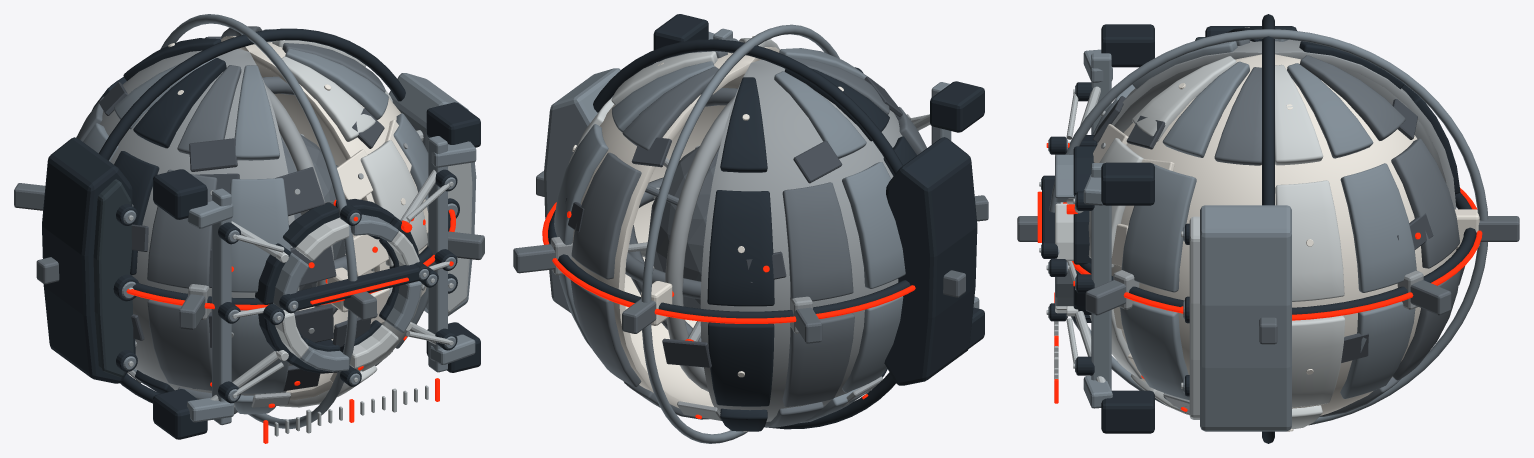
The model's file is orbit-test-ultra.glb.
3 views of the same model, side by side, from view 1: azimuth 30°, elevation 25°; view 2: azimuth 150°, elevation 25°; view 3: azimuth 270°, elevation 25° (orthographic). The views are drawn at different scales.
Parts seen in each view (by area): view 1: Test_MetrologyYoke_WEST, Test_OuterShell_B, Test_MetrologyYokeFace_00, Test_MeasurementRing_1, Test_MeasurementRing_2, Test_InspectionShell_B_ArmourTile_01_05, Test_OuterShell_A, Test_InspectionShell_B_ArmourTile_01_04, Test_InspectionShell_B_ArmourTile_02_04, Test_MetrologyRail_0, Test_InspectionShell_A_ArmourTile_01_00, Test_InspectionShell_B_ArmourTile_00_05 (+63 smaller); view 2: Test_MetrologyYoke_WEST, Test_OuterShell_B, Test_OuterShell_A, Test_InspectionShell_B_ArmourTile_01_00, Test_InspectionShell_B_ArmourTile_01_01, Test_MeasurementRing_1, Test_MeasurementRing_2, Test_InspectionShell_B_ArmourTile_02_00, Test_InspectionShell_A_ArmourTile_01_05, Test_InspectionShell_B_ArmourTile_01_02, Test_InspectionShell_B_ArmourTile_02_01, Test_MetrologyYoke_EAST (+34 smaller); view 3: Test_MetrologyYoke_EAST, Test_OuterShell_A, Test_MeasurementRing_2, Test_InspectionShell_A_ArmourTile_01_04, Test_InspectionShell_A_ArmourTile_01_01, Test_InspectionShell_A_ArmourTile_01_03, Test_OuterShell_B, Test_InspectionShell_A_ArmourTile_01_05, Test_InspectionShell_A_ArmourTile_02_01, Test_InspectionShell_A_ArmourTile_02_03, Test_InspectionShell_A_ArmourTile_02_04, Test_InspectionShell_A_ArmourTile_00_01 (+41 smaller).
Part boxes in pixels (<box>): Test_MetrologyYoke_WEST: <box>42,137,135,383</box>; Test_OuterShell_B: <box>100,48,299,407</box>; Test_MetrologyYokeFace_00: <box>93,179,133,377</box>; Test_MeasurementRing_1: <box>99,28,405,403</box>; Test_MeasurementRing_2: <box>160,14,357,428</box>; Test_InspectionShell_B_ArmourTile_01_05: <box>230,178,290,292</box>; Test_OuterShell_A: <box>221,36,426,400</box>; Test_InspectionShell_B_ArmourTile_01_04: <box>147,169,217,288</box>; Test_InspectionShell_B_ArmourTile_02_04: <box>147,299,211,390</box>; Test_MetrologyRail_0: <box>212,188,231,425</box>; Test_InspectionShell_A_ArmourTile_01_00: <box>360,140,427,266</box>; Test_InspectionShell_B_ArmourTile_00_05: <box>234,65,279,160</box>; Test_MetrologyYoke_WEST: <box>884,137,977,385</box>; Test_OuterShell_B: <box>700,59,902,421</box>; Test_OuterShell_A: <box>571,47,779,408</box>; Test_InspectionShell_B_ArmourTile_01_00: <box>707,190,774,306</box>; Test_InspectionShell_B_ArmourTile_01_01: <box>782,182,853,301</box>; Test_MeasurementRing_1: <box>593,39,902,429</box>; Test_MeasurementRing_2: <box>641,24,839,443</box>; Test_InspectionShell_B_ArmourTile_02_00: <box>708,322,774,406</box>; Test_InspectionShell_A_ArmourTile_01_05: <box>571,152,641,279</box>; Test_InspectionShell_B_ArmourTile_01_02: <box>842,162,905,288</box>; Test_InspectionShell_B_ArmourTile_02_01: <box>782,313,854,407</box>; Test_MetrologyYoke_EAST: <box>544,68,620,312</box>; Test_MetrologyYoke_EAST: <box>1200,205,1291,431</box>; Test_OuterShell_A: <box>1111,54,1456,415</box>; Test_MeasurementRing_2: <box>1049,29,1488,425</box>; Test_InspectionShell_A_ArmourTile_01_04: <box>1340,163,1416,292</box>; Test_InspectionShell_A_ArmourTile_01_01: <box>1121,164,1196,292</box>; Test_InspectionShell_A_ArmourTile_01_03: <box>1275,180,1344,301</box>; Test_OuterShell_B: <box>1097,39,1456,209</box>; Test_InspectionShell_A_ArmourTile_01_05: <box>1391,138,1459,268</box>; Test_InspectionShell_A_ArmourTile_02_01: <box>1120,301,1189,400</box>; Test_InspectionShell_A_ArmourTile_02_03: <box>1292,315,1345,407</box>; Test_InspectionShell_A_ArmourTile_02_04: <box>1340,301,1415,398</box>; Test_InspectionShell_A_ArmourTile_00_01: <box>1162,61,1249,157</box>.
Bounding box in the file's own units: 9.38 × 8.23 × 9.38.
